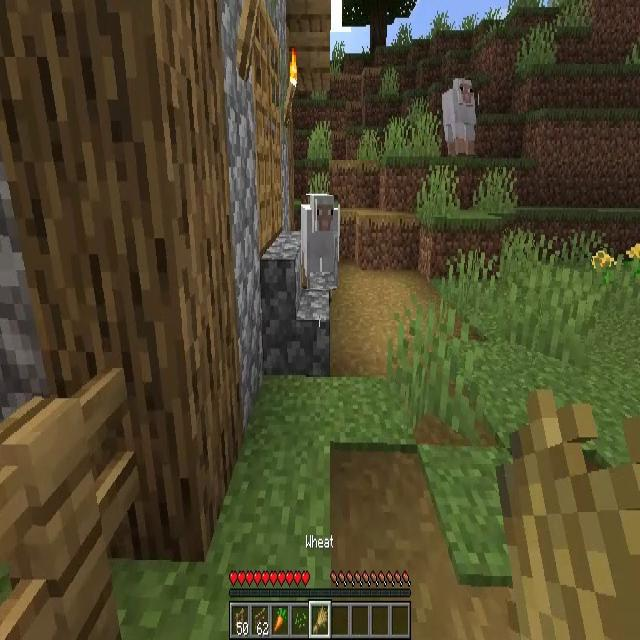flower: (592, 248, 614, 284)
sheep: (301, 195, 338, 289), (442, 78, 478, 157)
